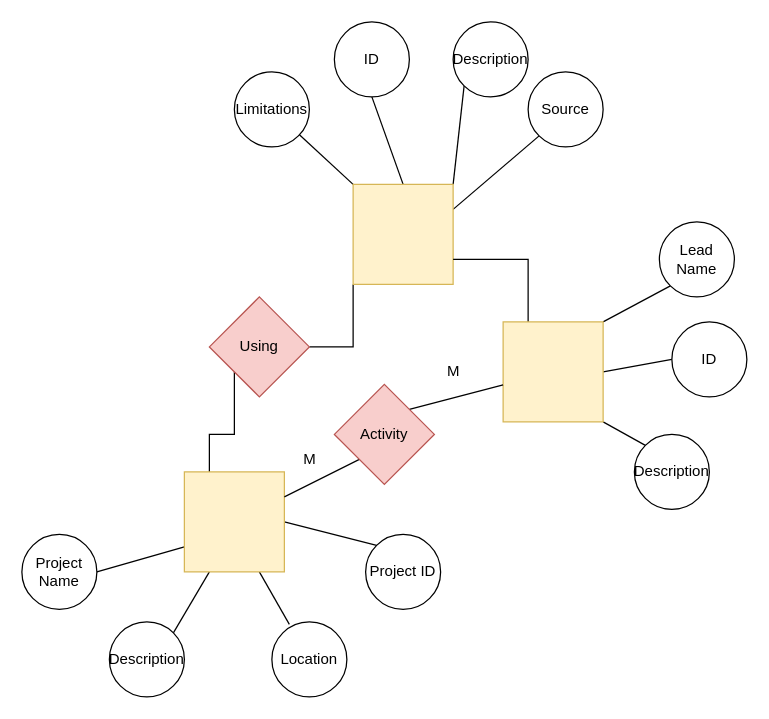
The diagram is 769 pixels wide and 719 high, and some of its shapes have lost their labels. Each missing label, with the centre of its shape:
"Data Source" belongs at (x=402, y=233).
"Project" belongs at (x=233, y=521).
"Team" belongs at (x=552, y=371).
